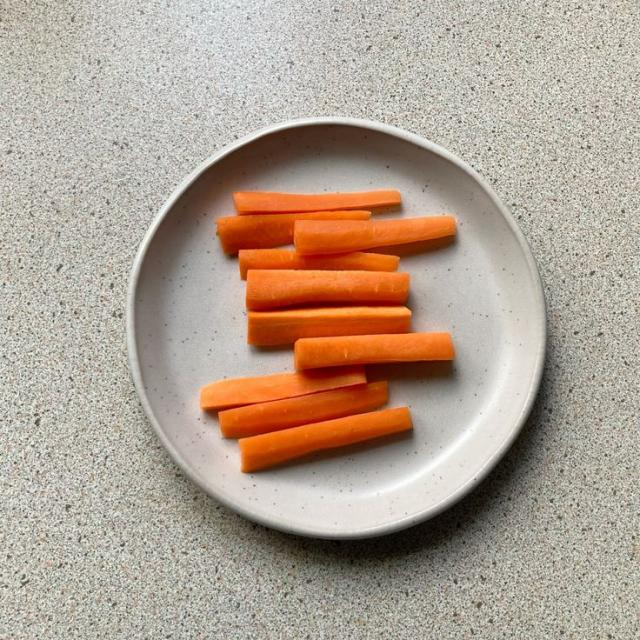carrot: (239, 407, 412, 472), (218, 382, 388, 438), (200, 367, 366, 409), (247, 270, 409, 310), (217, 211, 371, 253), (247, 307, 411, 346), (294, 216, 455, 254), (294, 333, 454, 369), (239, 249, 399, 279), (234, 190, 401, 214)
